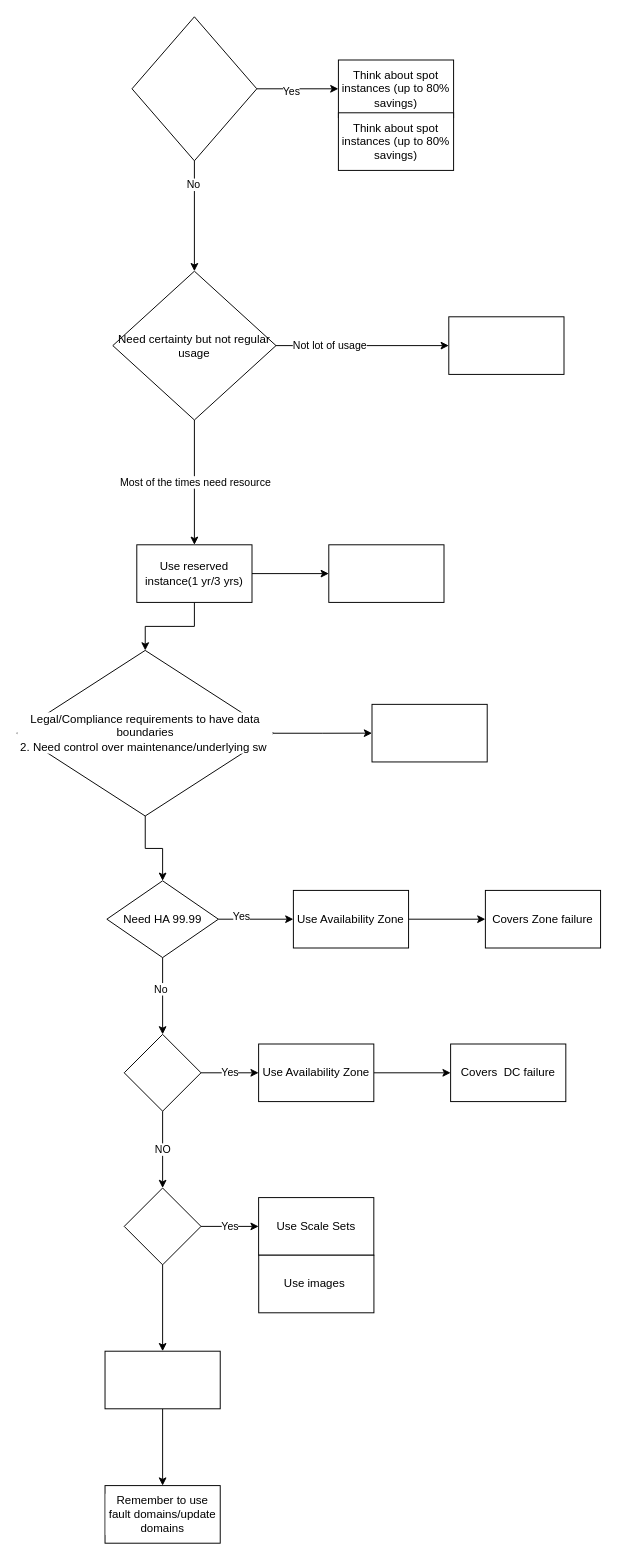
The diagram is 618 pixels wide and 1560 high, and some of its shapes have lost their labels. Each missing label, with the centre of its shape:
Dedicated Host: pixel 429 732
Have existing license? Use Hybrid Benifit: pixel 386 573
Is it batch, okay to stop in middle: pixel 194 88
Manually add VMs to availability zones or sets: pixel 162 1379
Need auto scaling: pixel 162 1226
Okay with HA 99.95: pixel 162 1072
Pay-as-you-go: pixel 506 345
